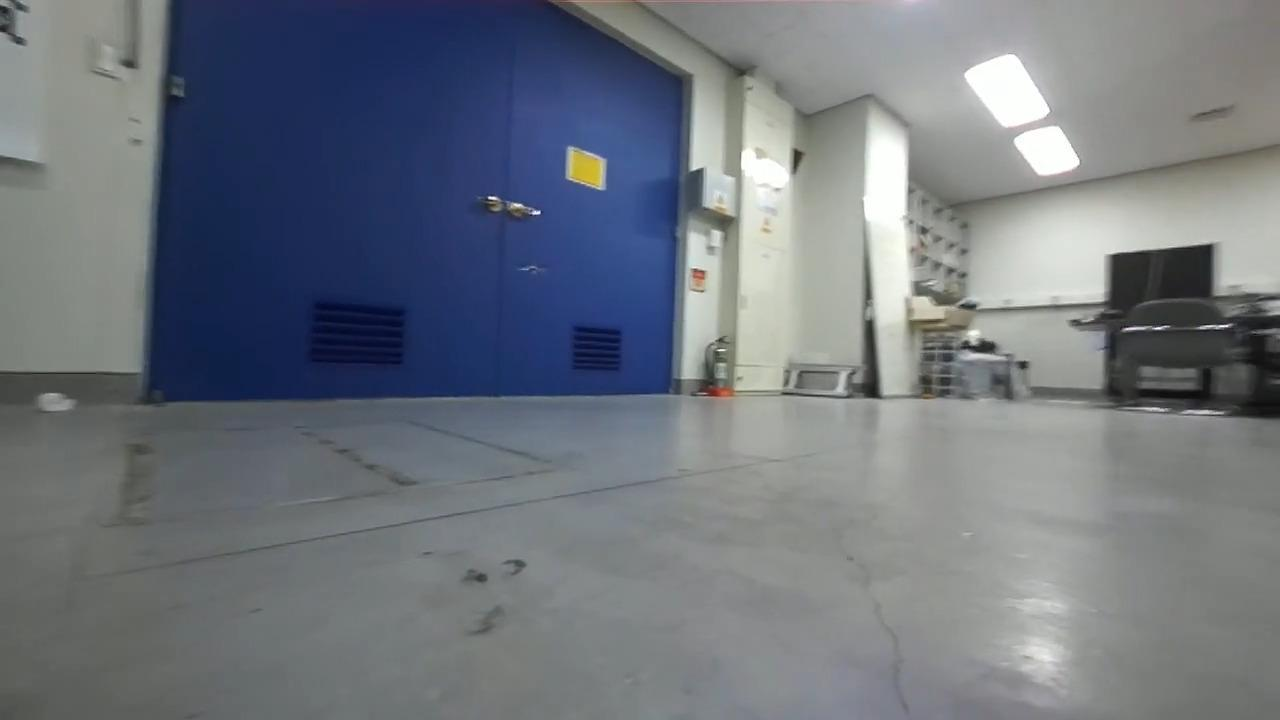crazyflie: (506, 258, 555, 279)
